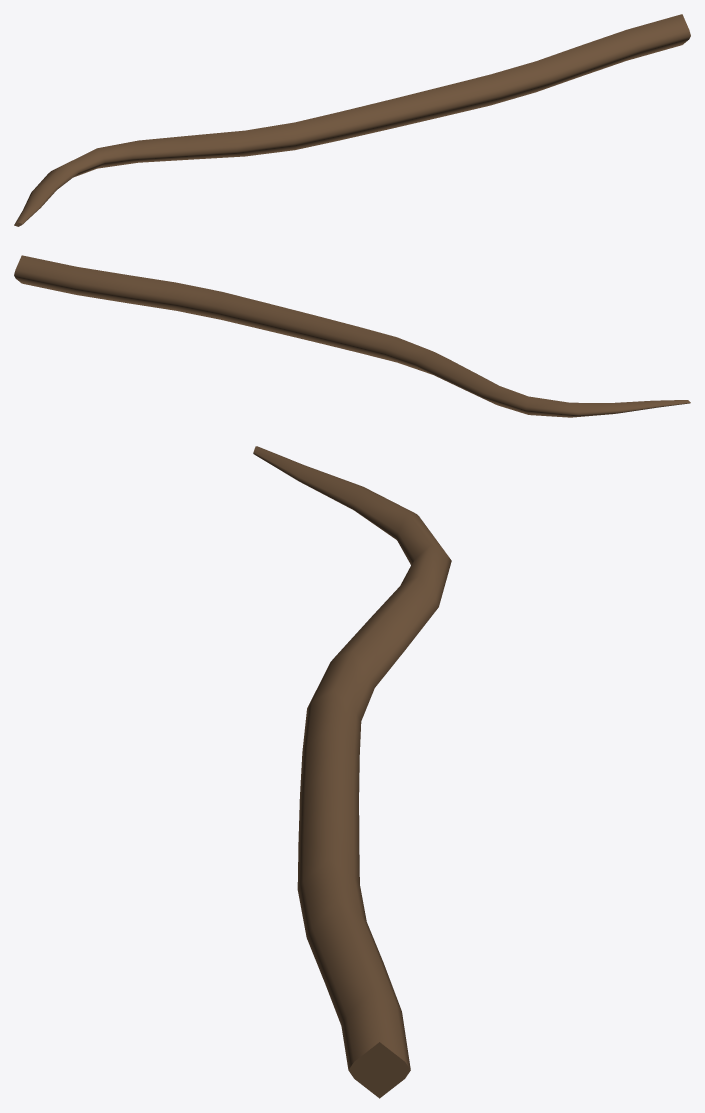
The model's file is SM_Skyisland_Root_Var2.fbx.
3 renders of one model, top to bottom at view 1: azimuth 30°, elevation 25°; view 2: azimuth 150°, elevation 25°; view 3: azimuth 270°, elevation 25°, orthographic. The views are drawn at different scales.
Parts seen in each view (by area): view 1: BezierCurve.064; view 2: BezierCurve.064; view 3: BezierCurve.064.
Part boxes in pixels (left/top/right/bottom): BezierCurve.064: left=14, top=14, right=690, bottom=226; BezierCurve.064: left=14, top=255, right=690, bottom=417; BezierCurve.064: left=253, top=446, right=451, bottom=1098.
Size of the model in its own units: 950 by 40.26 by 128.
